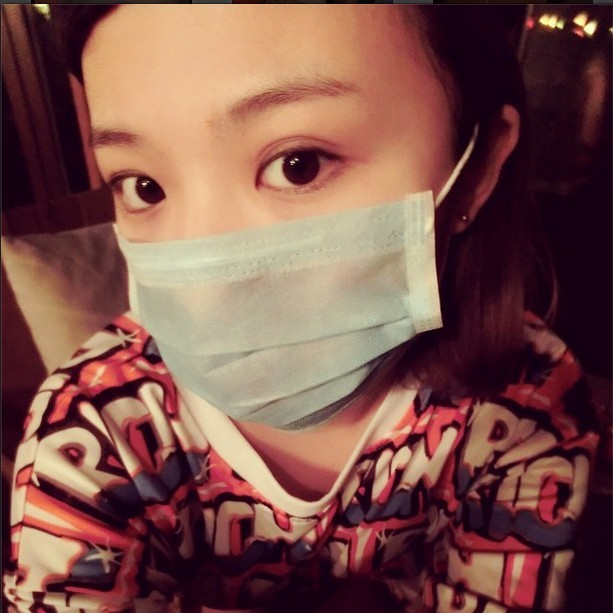face_mask: (84, 0, 445, 436)
